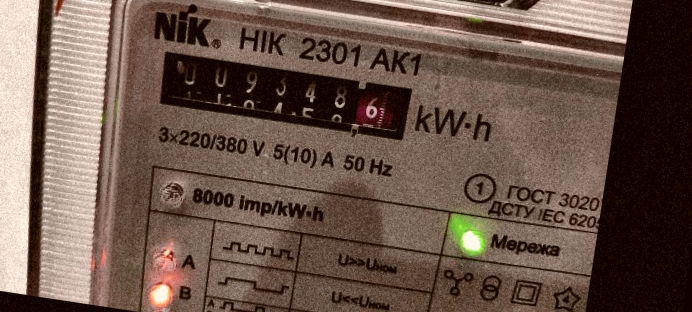0: (211, 62, 229, 87), (181, 58, 197, 86)
3: (271, 71, 288, 98)
4: (300, 75, 318, 104)
6: (360, 91, 381, 120)
8: (330, 81, 349, 110)
9: (240, 67, 259, 95)
screen: (145, 41, 422, 150)
